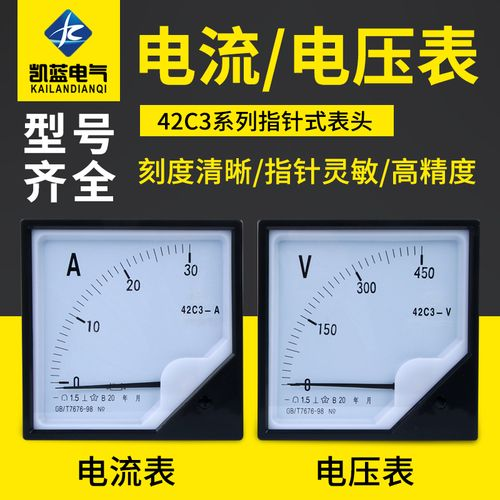pointer: (29, 229, 231, 430), (269, 228, 464, 429)
